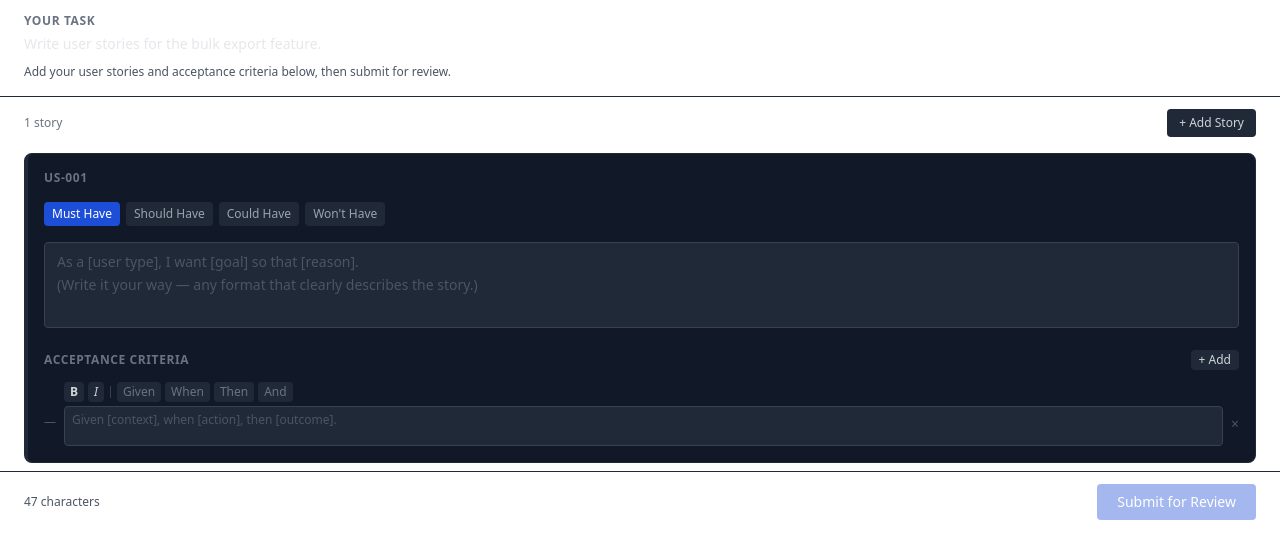
DocumentEditor › Submit is enabled after filling story and one AC item
The image size is (1280, 537).
Replace the text in the text box named "user story" with "As a logistics manager, I want to bulk export orders so that I can process them in our ERP.": coordinates (642, 285) left=44, top=242, right=1239, bottom=328
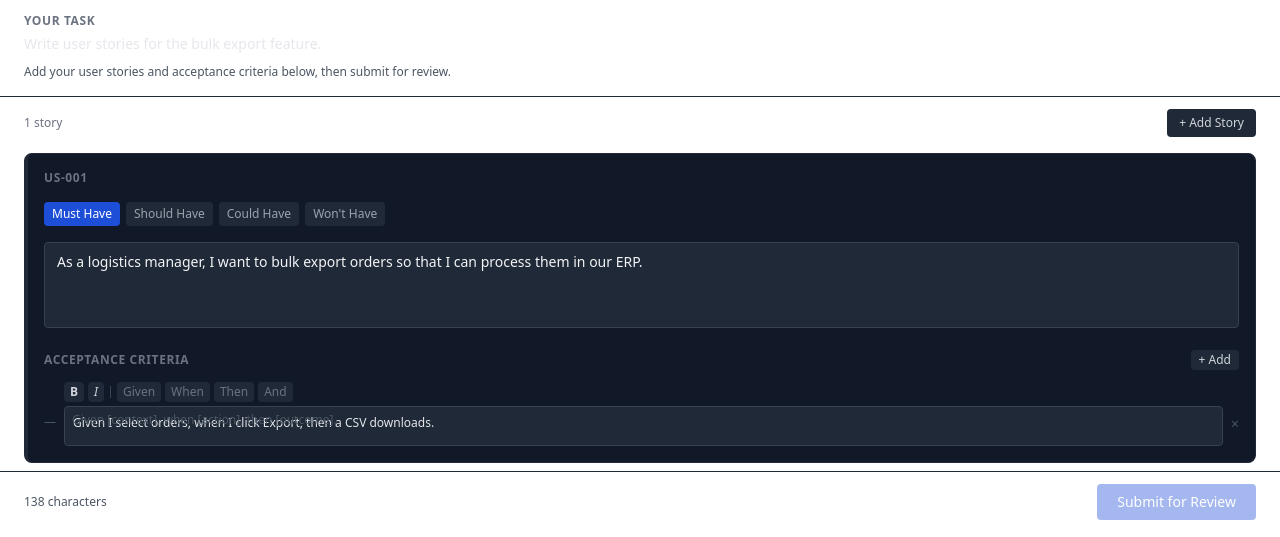
Clear the field named "acceptance criterion 1": coordinates (644, 426) left=64, top=406, right=1223, bottom=446
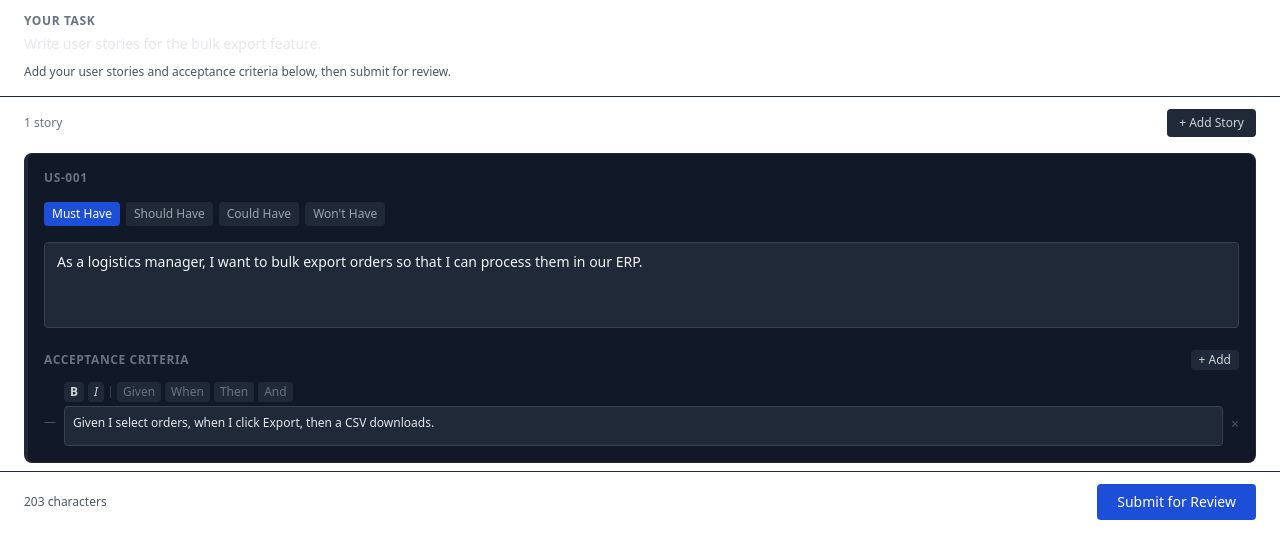
expect the button "Submit for Review" is enabled: met, box left=1097, top=484, right=1256, bottom=520
